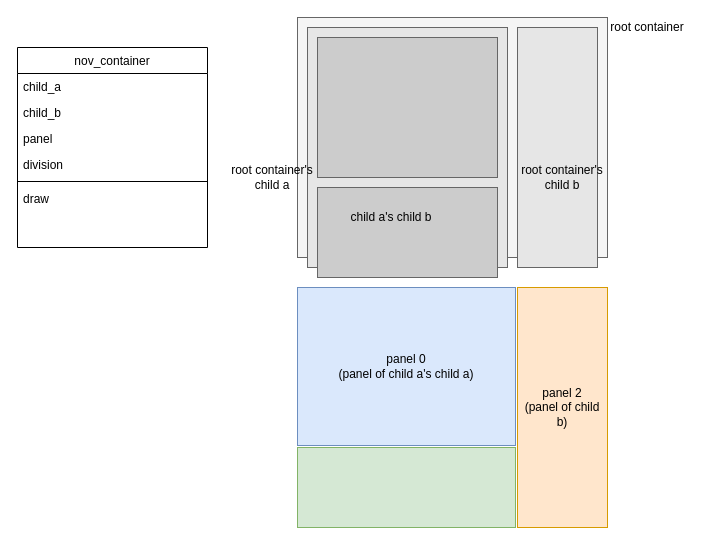
This 705x545 diagram has some shape labels left out. The box of each missing label's shape, as (x1, y1, x2, y2) in pixels:
child a's child a: (316, 36, 498, 178)
panel 1 (panel of child a's child b): (296, 446, 516, 528)
